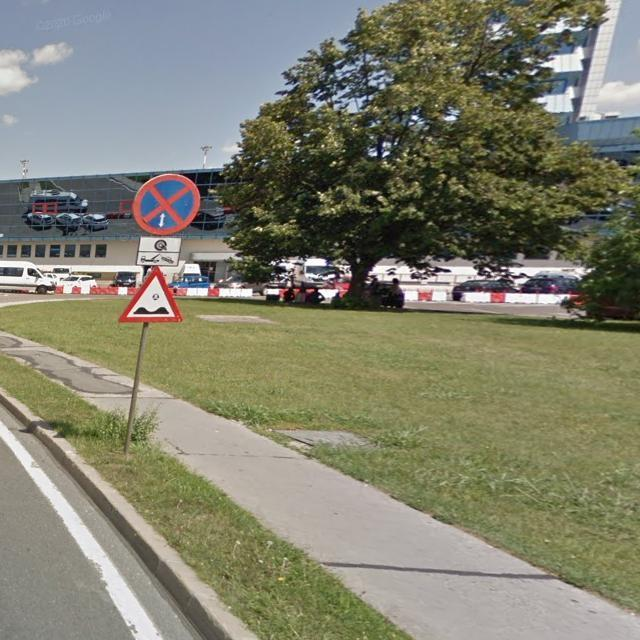forb_waiting: (133, 173, 201, 237)
